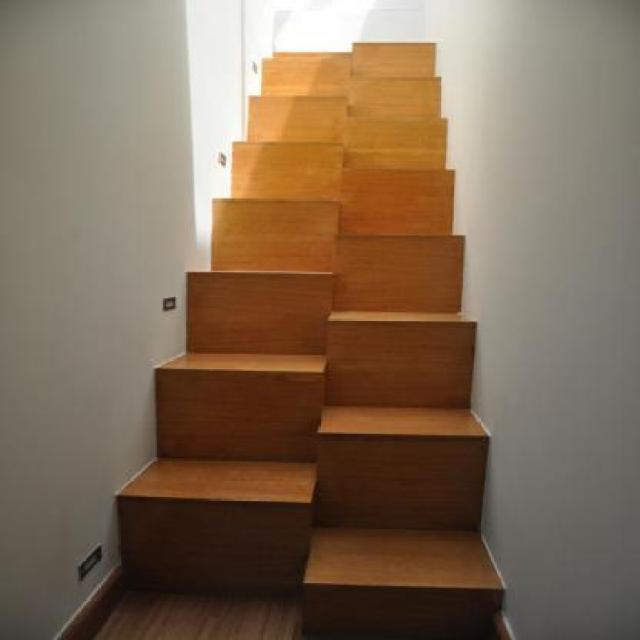stair: (86, 33, 500, 636)
